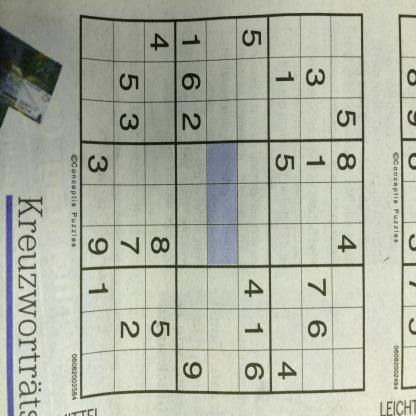sudoku: (76, 9, 368, 403)
